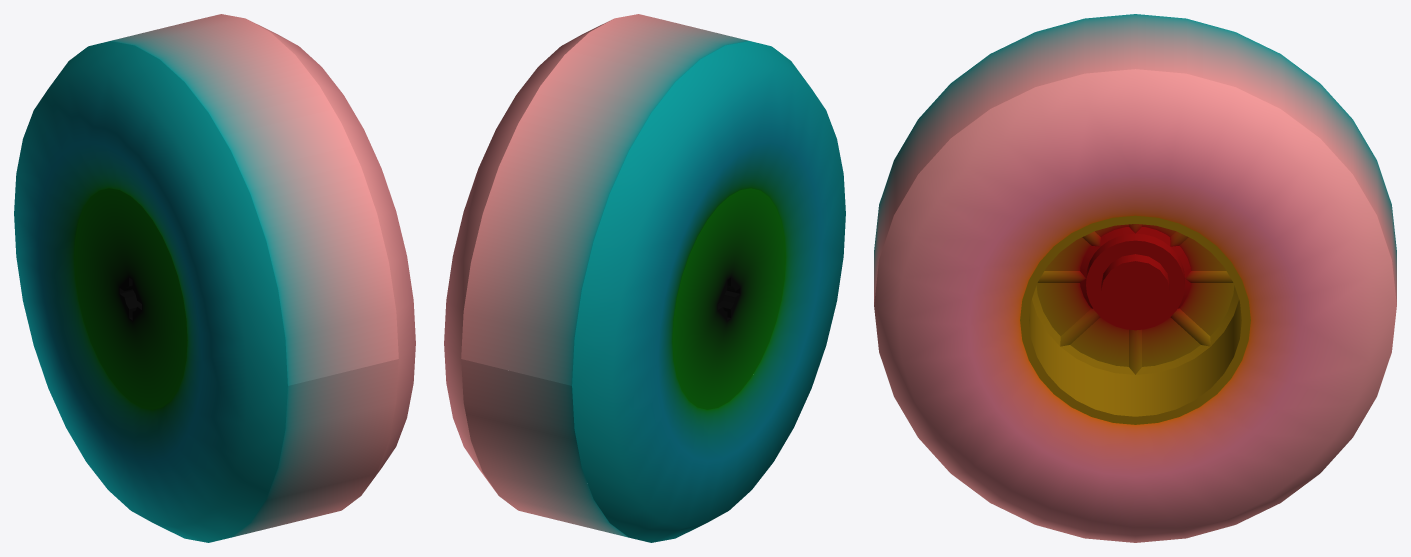
File: SM_OffroadWheel_5x2.gltf
3 renders of one model, left to right at view 1: azimuth 30°, elevation 25°; view 2: azimuth 150°, elevation 25°; view 3: azimuth 270°, elevation 25°, orthographic.
Visible parts, largest first — view 1: SM_OffroadWheel_5x2; view 2: SM_OffroadWheel_5x2; view 3: SM_OffroadWheel_5x2.
Part boxes in pixels (x1,y1,x2,y2): SM_OffroadWheel_5x2: (14,14,415,542); SM_OffroadWheel_5x2: (444,14,845,542); SM_OffroadWheel_5x2: (874,14,1396,542).
Bounding box in the file's own units: 0.6751 × 1.59 × 1.59.
